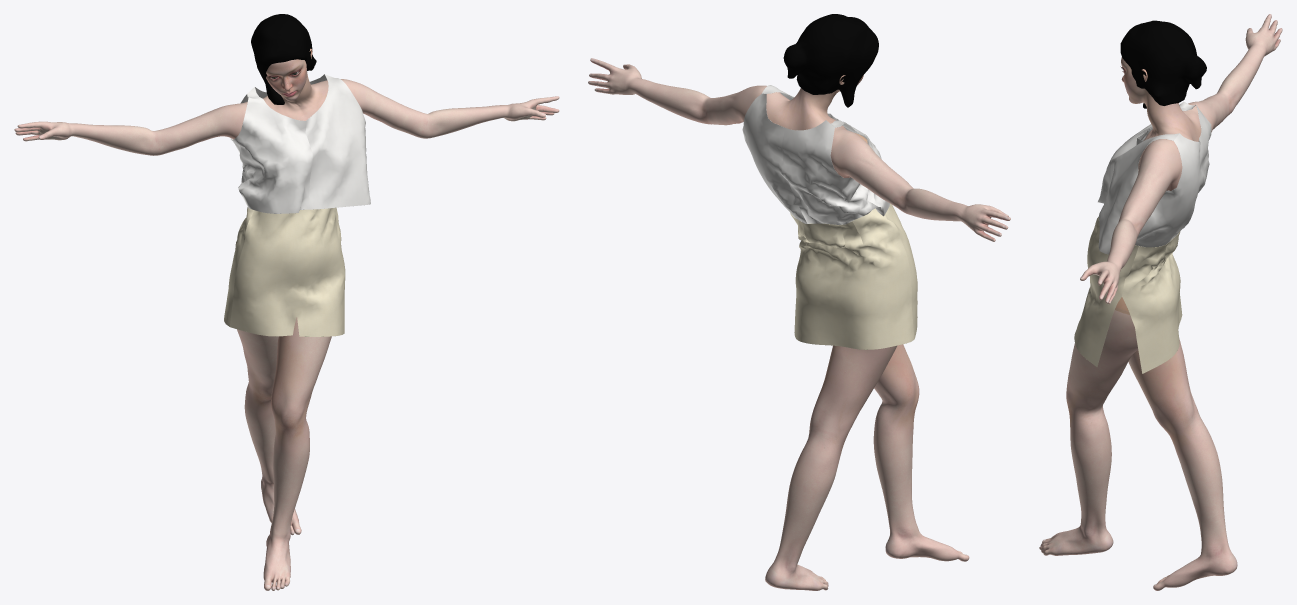
File: random.obj
3 renders of one model, left to right at view 1: azimuth 30°, elevation 25°; view 2: azimuth 150°, elevation 25°; view 3: azimuth 270°, elevation 25°, orthographic. The views are drawn at different scales.
Bounding box in the file's own units: 1601 × 1717 × 679.
